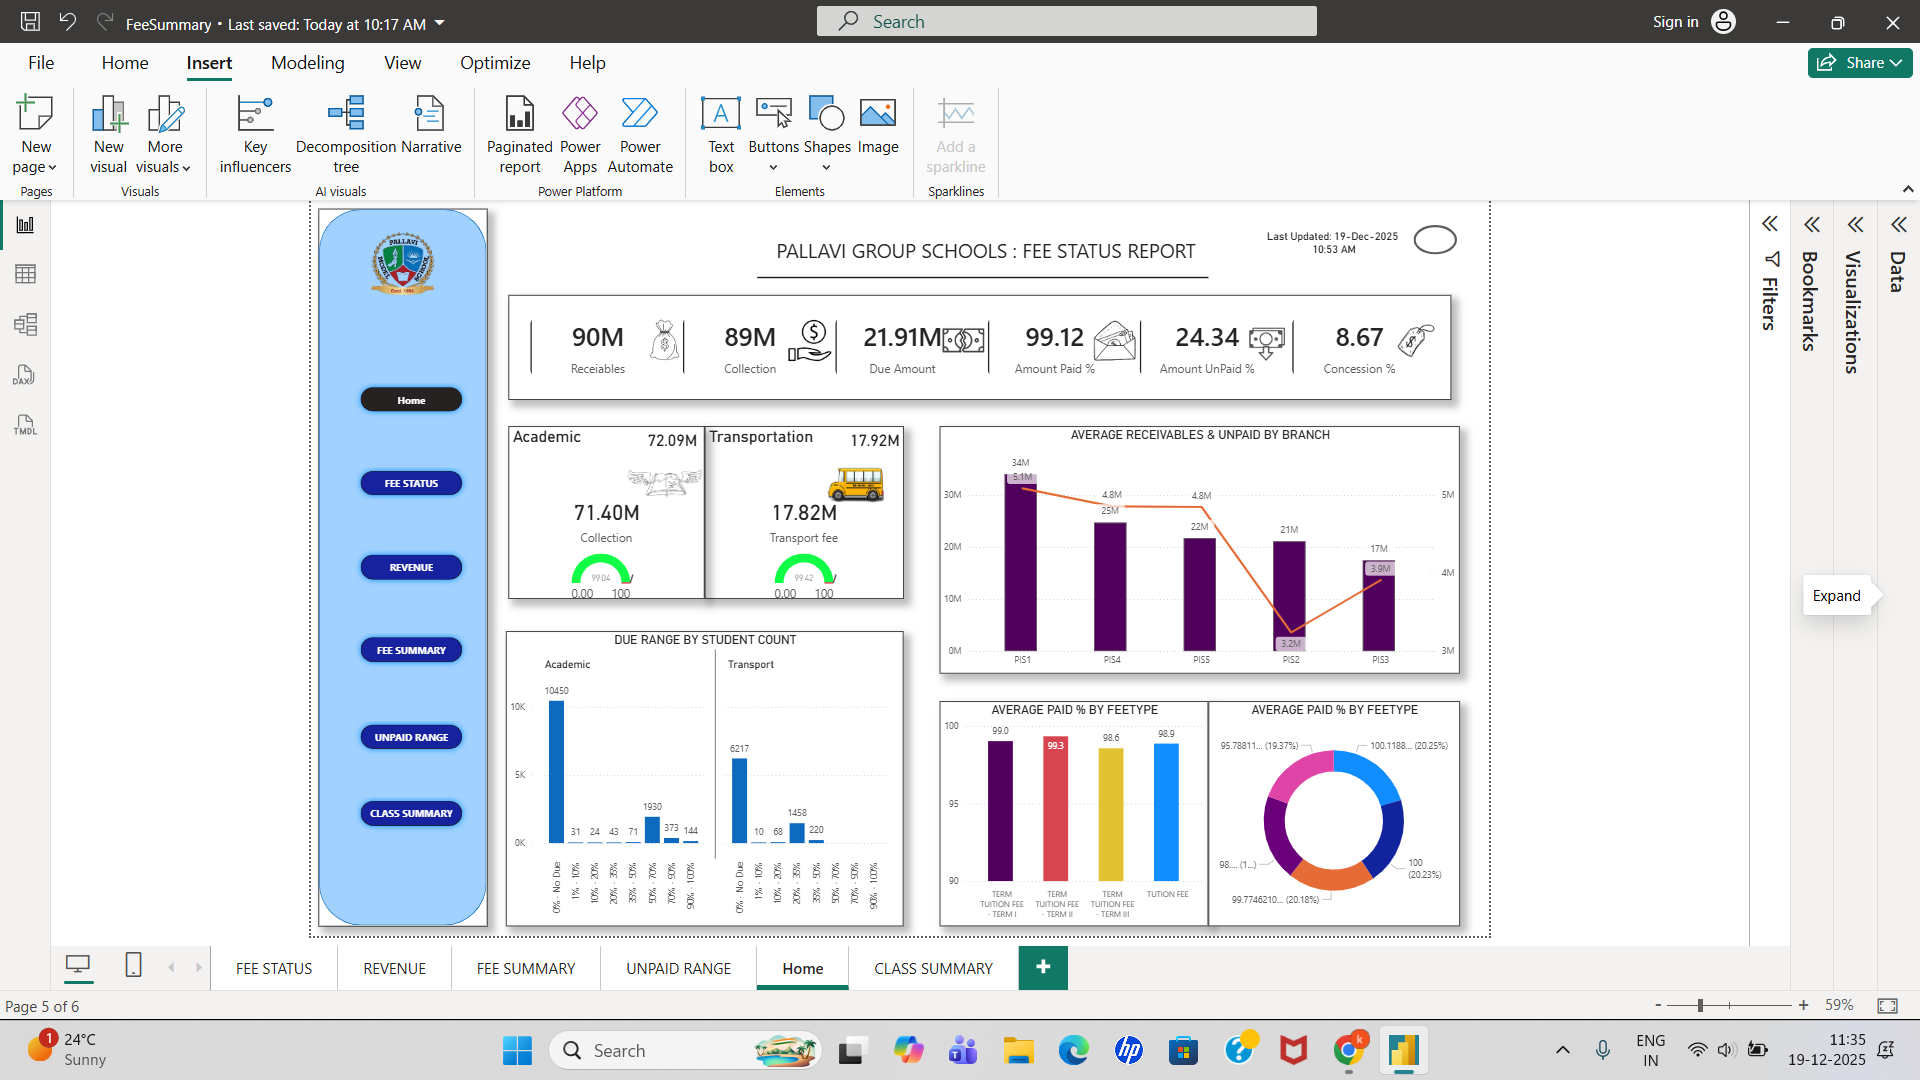

What the dashboard file says about the page in this screenshot:
{"tool":"powerbi","page":{"name":"Home","canvas":[1600,1000],"ordinal":0},"visuals":[{"type":"cardVisual","fields":{"Data":["Fee_Summary.Collection","Fee_Summary.collect","Fee_Summary.Due Amount","Fee_Summary.Paid %","Fee_Summary.Unpaid %","Fee_Summary.Concession %"]},"box":[268.3,129.1,1292.5,142.7],"z":0},{"type":"shape","box":[10.2,11.9,229.3,974.9],"z":1000},{"type":"shape","box":[606.3,45.9,613.1,118.9],"z":2000},{"type":"image","box":[448.4,161.3,64.5,59.4],"z":3000},{"type":"card","title":"Academic","fields":{"Values":["Fee_Summary.Academic tution fee"]},"box":[268.3,307.4,266.6,234.4],"z":3000,"group":"g1"},{"type":"image","box":[645.4,161.3,64.5,59.4],"z":4000},{"type":"image","box":[866.2,163,64.5,59.4],"z":5000},{"type":"image","box":[1070,159.6,64.5,59.4],"z":6000},{"type":"image","box":[1277.2,159.6,64.5,59.4],"z":7000},{"type":"image","box":[1496.3,159.6,64.5,59.4],"z":8000},{"type":"textbox","box":[365.2,45.9,1103.9,57.7],"z":9000},{"type":"image","box":[59.4,74.7,151.2,118.9],"z":10000},{"type":"image","box":[426.2,344.8,108.7,79.8],"z":10000,"group":"g1"},{"type":"lineStackedColumnComboChart","title":"AVERAGE RECEIVABLES & UNPAID BY BRANCH","fields":{"Category":["Fee_Summary.Branch Name"],"Y2":["Sum(Fee_Summary.Outstanding)"],"Y":["Fee_Summary.Reciverable"]},"box":[854.3,307.4,706.5,336.3],"z":11000},{"type":"image","box":[677.6,344.8,144.4,79.8],"z":11000,"group":"g1"},{"type":"columnChart","title":"AVERAGE PAID % BY FEETYPE","fields":{"Category":["Fee_Summary.Fee Type"],"Y":["Fee_Summary.Paid %"]},"box":[854.3,681,365.2,305.7],"z":12000},{"type":"clusteredColumnChart","title":"DUE RANGE BY STUDENT COUNT","fields":{"Category":["Fee_Summary.Due % Range"],"Y":["Fee_Summary.No of students"],"Rows":["Fee_Summary.Fee Category"]},"box":[264.9,585.9,540.1,400.8],"z":13000},{"type":"card","fields":{"Values":["Fee_Summary.Academic Actual tution fee"]},"box":[402.5,295.5,176.6,49.3],"z":14000,"group":"g1"},{"type":"donutChart","title":"AVERAGE PAID % BY FEETYPE","fields":{"Category":["Fee_Summary.Jodo Status"],"Y":["Fee_Summary.Paid %"]},"box":[1219.4,681,341.4,305.7],"z":14000},{"type":"card","fields":{"Values":["Fee_Summary.Last Refresh"]},"box":[1323,17,215.7,86.6],"z":15000},{"type":"actionButton","box":[1515,45.9,45.9,40.8],"z":16000},{"type":"pageNavigator","title":"Home","box":[59.4,360.1,154.6,49.3],"z":17000},{"type":"pageNavigator","title":"Home","box":[59.4,473.8,154.6,51],"z":18000},{"type":"gauge","fields":{"Y":["Fee_Summary.Tuition fee %"],"MaxValue":["Fee_Summary.Target 100%"]},"box":[326,475.5,135.9,81.5],"z":19000,"group":"g1"},{"type":"pageNavigator","title":"Home","box":[59.4,585.9,154.6,51],"z":19000},{"type":"gauge","fields":{"MaxValue":["Fee_Summary.Target 100%"],"Y":["Fee_Summary.Transport Fee %"]},"box":[602.9,475.5,134.2,81.5],"z":20000,"group":"g1"},{"type":"pageNavigator","title":"Home","box":[59.4,704.8,154.6,49.3],"z":20000},{"type":"card","title":"Transportation","fields":{"Values":["Fee_Summary.Transport fee"]},"box":[534.9,307.4,270,234.4],"z":21000,"group":"g1"},{"type":"pageNavigator","title":"Home","box":[59.4,808.4,154.6,51],"z":21000},{"type":"pageNavigator","title":"Home","box":[59.4,246.3,154.6,49.3],"z":22000},{"type":"card","fields":{"Values":["Fee_Summary.Transport actual fee"]},"box":[677.6,307.4,176.6,37.4],"z":22000,"group":"g1"},{"type":"group","id":"g1","title":"Group 1","box":[268.3,295.5,585.9,261.6],"z":23000}]}

Visuals, with their boxes on the page's 1600x1000 design canvas (x1, y1, x2, y2). These are canvas units, not pixel positions in the 1920x1080 screenshot, which may show the page scaled, cropped or inside an application window:
cardVisual - Fee_Summary.Collection x Fee_Summary.collect: (268, 129, 1561, 272)
shape: (10, 12, 240, 987)
shape: (606, 46, 1219, 165)
image: (448, 161, 513, 221)
"Academic" card: (268, 307, 535, 542)
image: (645, 161, 710, 221)
image: (866, 163, 931, 222)
image: (1070, 160, 1134, 219)
image: (1277, 160, 1342, 219)
image: (1496, 160, 1561, 219)
textbox: (365, 46, 1469, 104)
image: (59, 75, 211, 194)
image: (426, 345, 535, 425)
"AVERAGE RECEIVABLES & UNPAID BY BRANCH" lineStackedColumnComboChart: (854, 307, 1561, 644)
image: (678, 345, 822, 425)
"AVERAGE PAID % BY FEETYPE" columnChart: (854, 681, 1220, 987)
"DUE RANGE BY STUDENT COUNT" clusteredColumnChart: (265, 586, 805, 987)
card - Fee_Summary.Academic Actual tution fee: (402, 296, 579, 345)
"AVERAGE PAID % BY FEETYPE" donutChart: (1219, 681, 1561, 987)
card - Fee_Summary.Last Refresh: (1323, 17, 1539, 104)
actionButton: (1515, 46, 1561, 87)
"Home" pageNavigator: (59, 360, 214, 409)
"Home" pageNavigator: (59, 474, 214, 525)
gauge - Fee_Summary.Tuition fee % x Fee_Summary.Target 100%: (326, 476, 462, 557)
"Home" pageNavigator: (59, 586, 214, 637)
gauge - Fee_Summary.Target 100% x Fee_Summary.Transport Fee %: (603, 476, 737, 557)
"Home" pageNavigator: (59, 705, 214, 754)
"Transportation" card: (535, 307, 805, 542)
"Home" pageNavigator: (59, 808, 214, 859)
"Home" pageNavigator: (59, 246, 214, 296)
card - Fee_Summary.Transport actual fee: (678, 307, 854, 345)
"Group 1" group: (268, 296, 854, 557)
